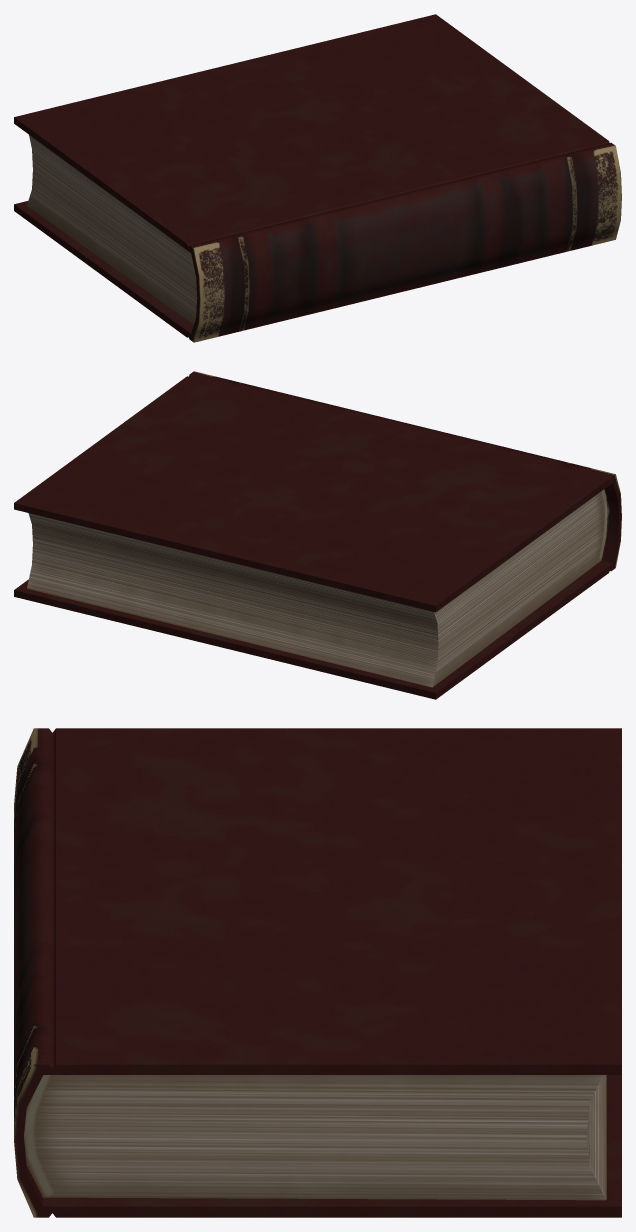
The model's file is book_3.FBX.
3 renders of one model, top to bottom at view 1: azimuth 30°, elevation 25°; view 2: azimuth 150°, elevation 25°; view 3: azimuth 270°, elevation 25°, orthographic. The views are drawn at different scales.
Parts seen in each view (by area): view 1: Book_3; view 2: Book_3; view 3: Book_3.
Part boxes in pixels (box(x1,y1,x2,y2)): Book_3: box(14, 14, 621, 342); Book_3: box(14, 371, 621, 699); Book_3: box(14, 728, 621, 1217).
Size of the model in its own units: 0.1148 by 0.0244 by 0.0877.
Materials: 1 (1 with a texture image).
